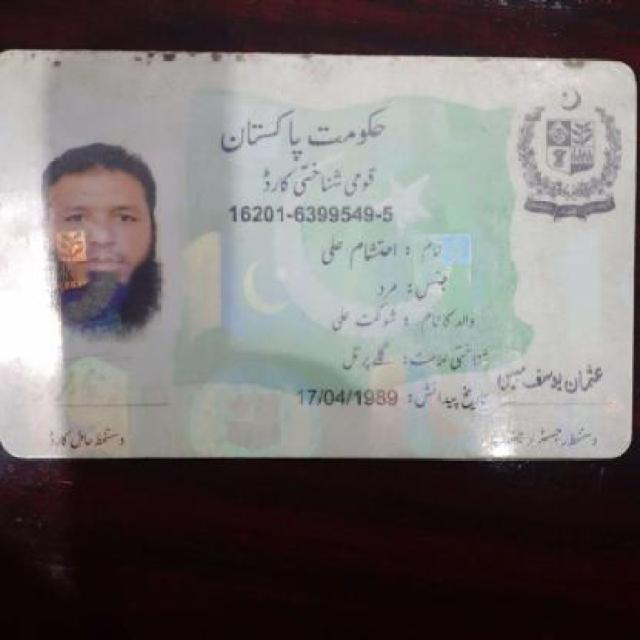Front: (3, 37, 634, 463)
